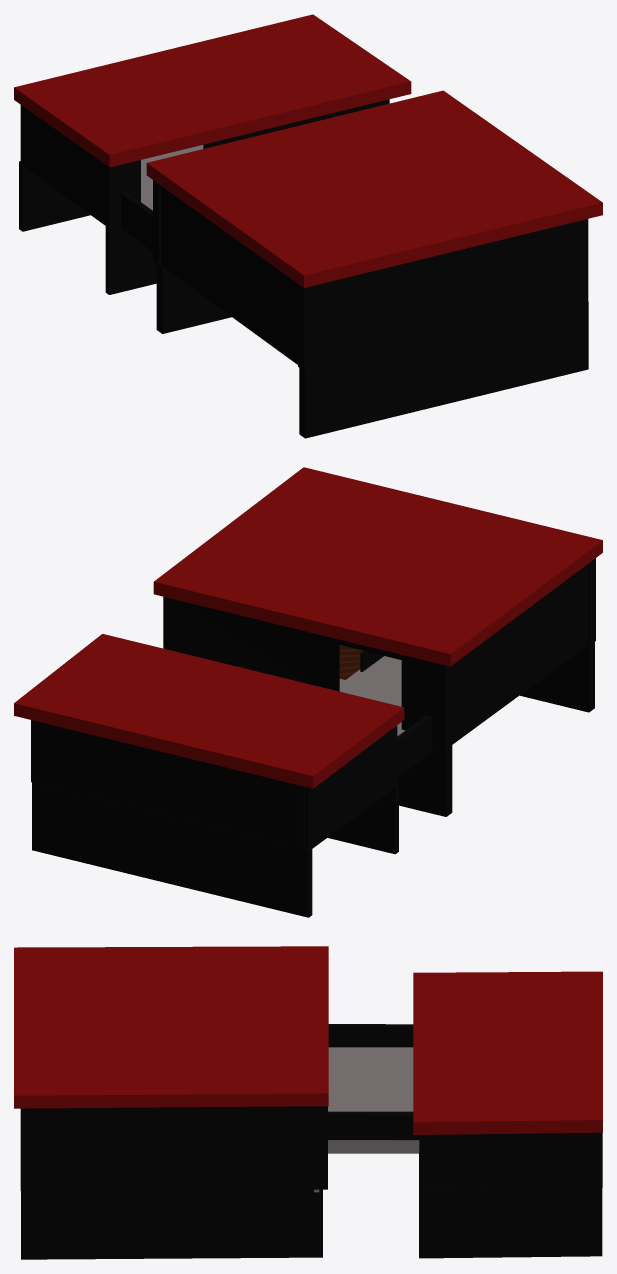
The model's file is Manor.FBX.
3 renders of one model, top to bottom at view 1: azimuth 30°, elevation 25°; view 2: azimuth 150°, elevation 25°; view 3: azimuth 270°, elevation 25°, orthographic.
Visible parts, largest first — view 1: Manor; view 2: Manor; view 3: Manor.
Boxes of the visible parts, left/top/right/bottom form: Manor: left=14, top=14, right=602, bottom=438; Manor: left=14, top=467, right=602, bottom=917; Manor: left=14, top=946, right=602, bottom=1259.
Bounding box in the file's own units: 1787 × 2930 × 930.
